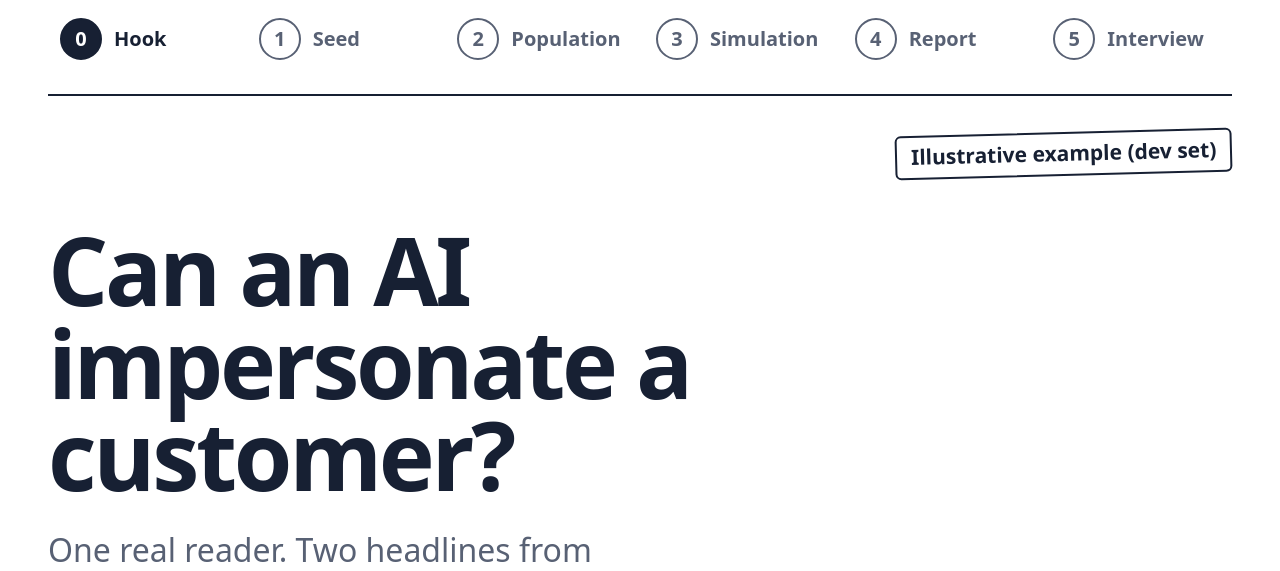
Test: Simulation step in the app › replays the selected run, with live runs offered to developers
Click the button "3 Simulation".
click(739, 39)  # box [644,8,835,70]
(page scrolled)
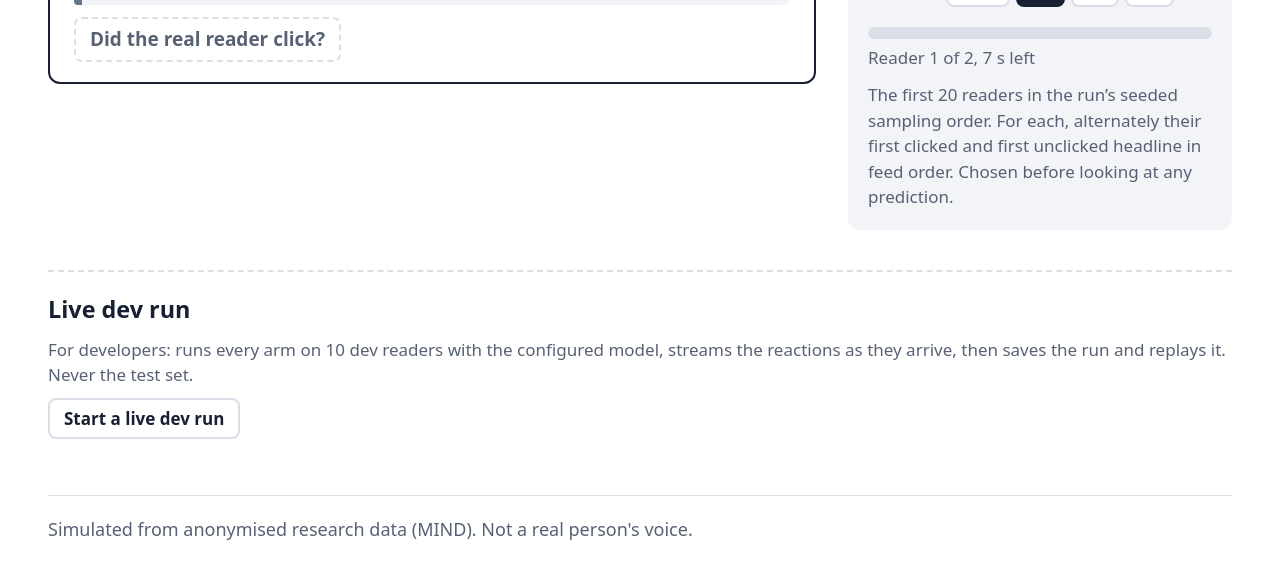
Expected: the button "Start a live dev run" is shown, [48,398,240,439]
